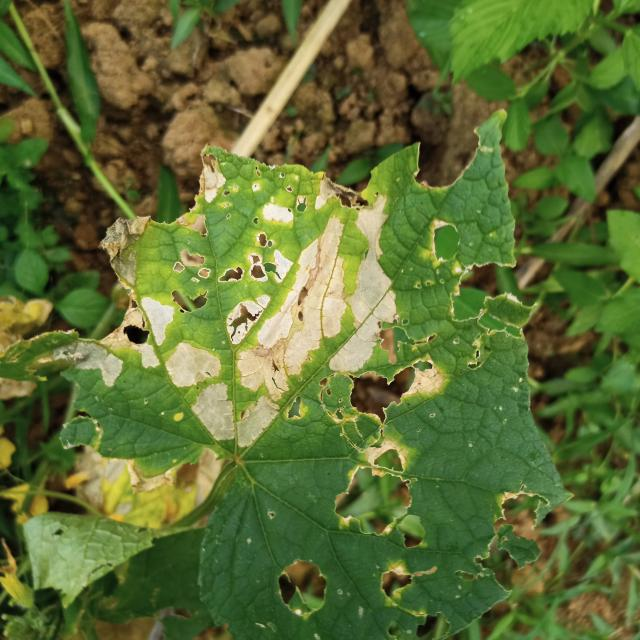disease_cucumber: (118, 165, 486, 475)
